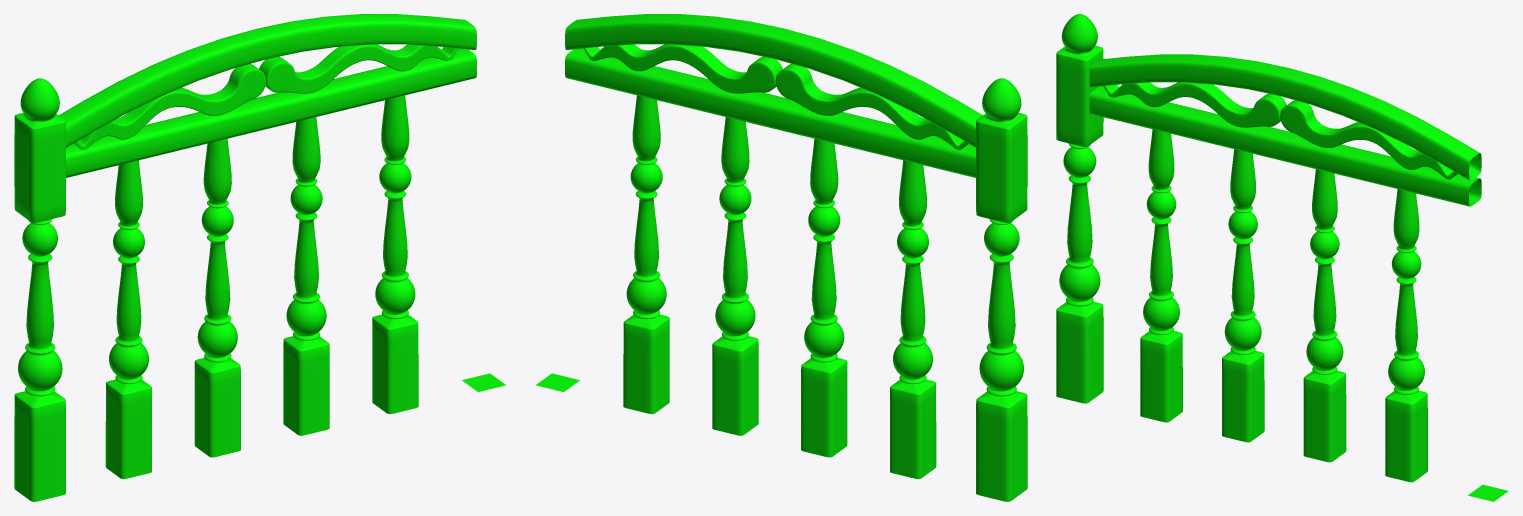
The model's file is sub_WoodHandrail001.fbx.
3 renders of one model, left to right at view 1: azimuth 30°, elevation 25°; view 2: azimuth 150°, elevation 25°; view 3: azimuth 330°, elevation 25°, orthographic. The views are drawn at different scales.
Visible parts, largest first — view 1: sub_WoodHandrail001; view 2: sub_WoodHandrail001; view 3: sub_WoodHandrail001.
Part boxes in pixels (x1,y1,x2,y2): sub_WoodHandrail001: (14,14,505,501); sub_WoodHandrail001: (536,14,1027,501); sub_WoodHandrail001: (1056,14,1508,501).
Size of the model in its own units: 2.15 by 1.77 by 0.1743.
